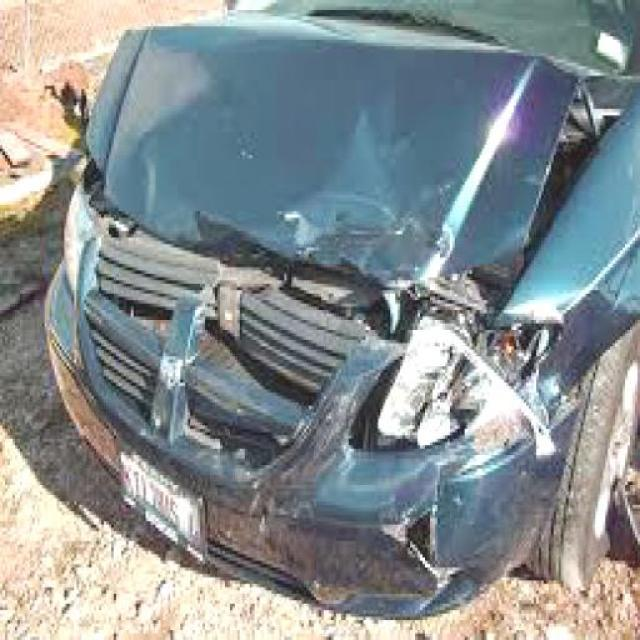car damage: (37, 25, 640, 619)
